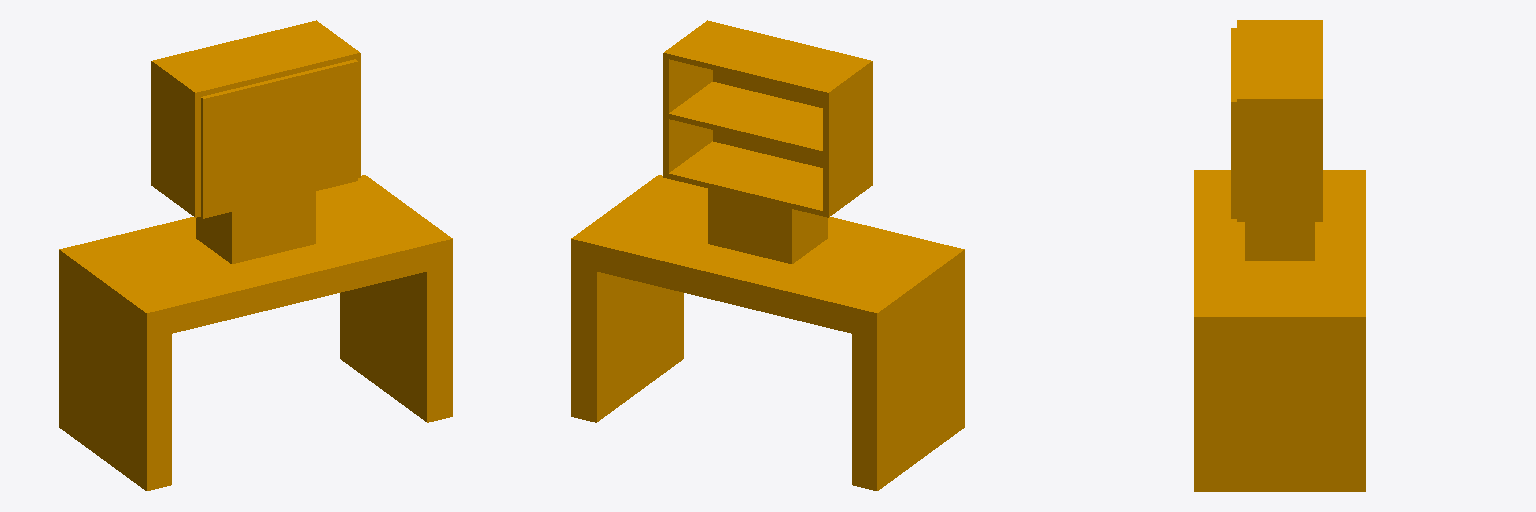
The robot description file, URDF, robot "tableShelves.off":
<?xml version="1.0"?>
<robot name="tableShelves.off">
	<link name="tableShelves.off">
		<inertial>
			<!--origin xyz="0 0 0" rpy="0 0 0" /-->
			<mass value="0.5" />
			<!--inertia ixx="0.000360" ixy="0" ixz="0" iyy="0.0000615" iyz="0" izz="0.00036" /-->
		</inertial>
    		<visual>
	      		<!--origin rpy="0 0 0" xyz="0 0 0"/-->
      			<geometry>
        			<mesh filename="tableShelves.off.obj"/>
      			</geometry>
         	</visual>
    		<collision>
      			<!--origin rpy="0 0 0" xyz="0 0 0"/-->
      			<geometry>
        			<mesh filename="tableShelves.off.obj"/>
      			</geometry>
    		</collision>
	</link>
</robot>

--- Facts derived from the render (not from the file) ---
The picture shows the robot from 3 angles, left to right: view 1: azimuth 30°, elevation 25°; view 2: azimuth 150°, elevation 25°; view 3: azimuth 270°, elevation 25°; orthographic projection.
Model tableShelves.off with 1 links and 0 joints (none), rooted at tableShelves.off, posed all joints at 0.
Visible links, largest first — view 1: tableShelves.off; view 2: tableShelves.off; view 3: tableShelves.off.
Link boxes in pixels (x1=…): tableShelves.off: x1=59, y1=20, x2=452, y2=490; tableShelves.off: x1=571, y1=20, x2=964, y2=490; tableShelves.off: x1=1194, y1=20, x2=1365, y2=491.
Size in the robot's own frame: 1.21 by 0.596 by 1.38 metres.
Meshes: 1 distinct files referenced, 1 mesh visuals loaded (1 OBJ).